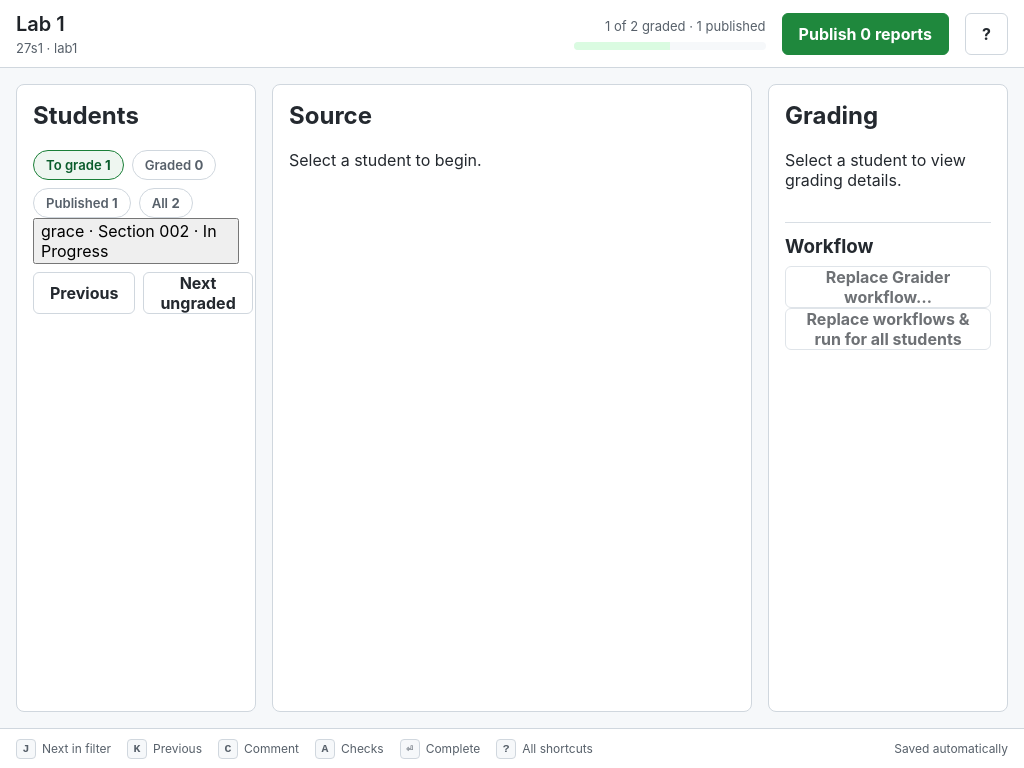
Scenario: GradingWorkspacePage publish review › shows the empty state when there are no completed reports ready to publish
Click the button "Publish 0 reports" at (865,34), box [782, 12, 949, 54]
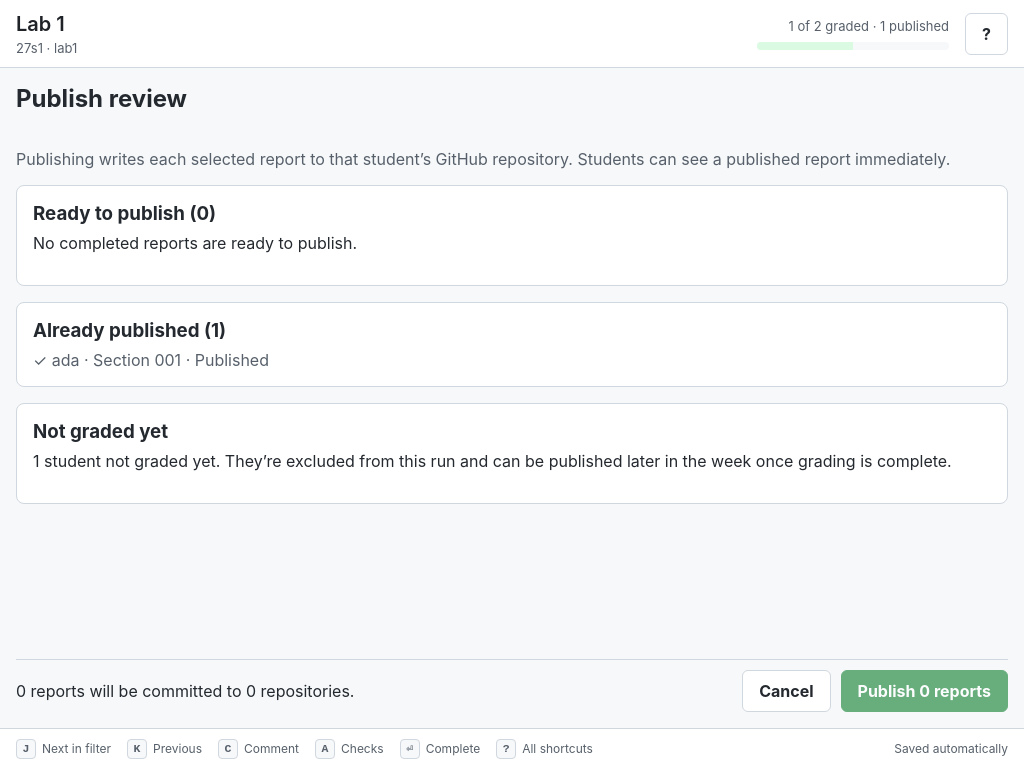
Expected: the heading "Publish review" is shown, [16, 84, 187, 113]
Expected: the text "No completed reports are ready to publish." is shown, [33, 233, 357, 253]
Expected: the button "Publish 0 reports" is disabled, [840, 670, 1008, 712]
